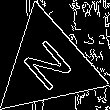N_SE: (17, 33, 79, 98)
